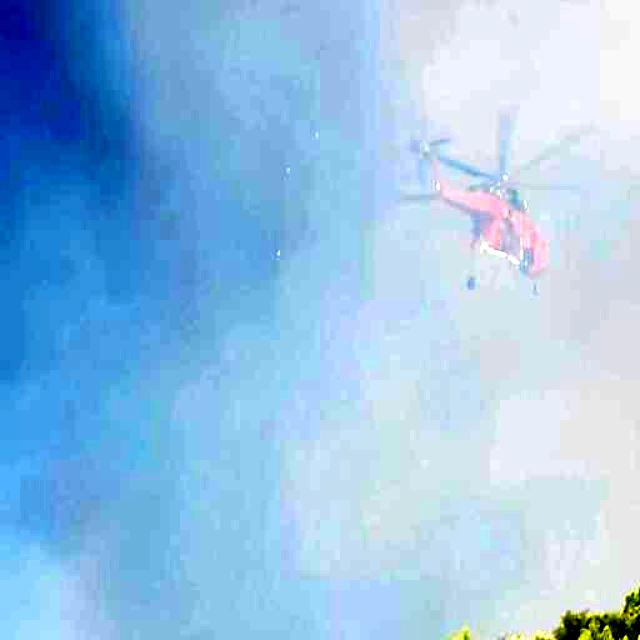drone: (395, 104, 592, 304)
